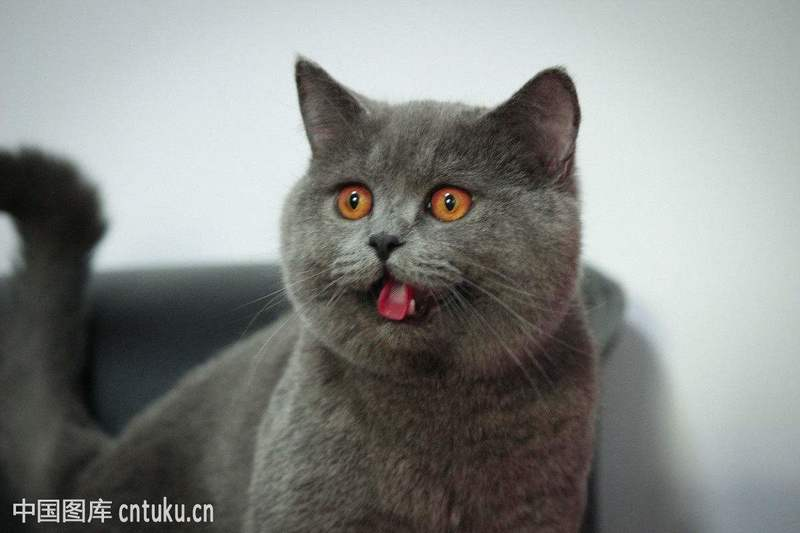cat: (257, 42, 619, 403)
